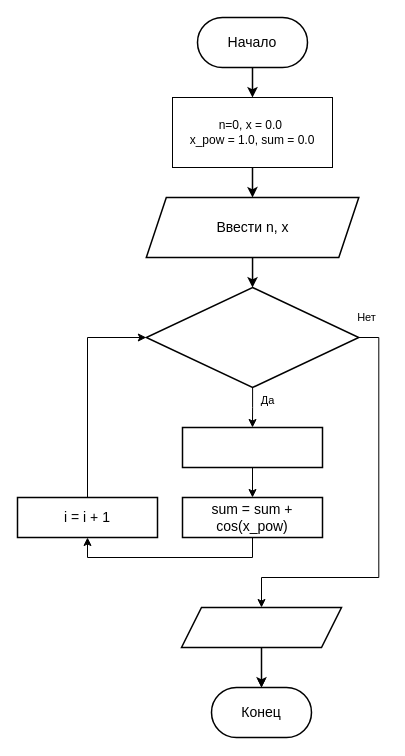
Some shapes in this 405 by 756 pixel diagram are drawn without their labels. Here are the shapes that lost their labels. From the top down, the box of each, then its label:
(145, 286, 359, 388): i < n
(181, 426, 323, 468): x_pow = x_pow * x
(180, 606, 342, 648): Вывод sum
